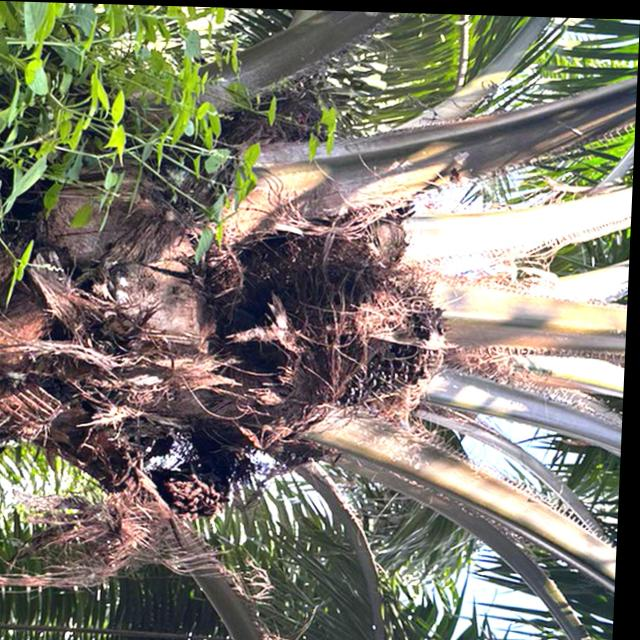ripe: (301, 266, 461, 411)
